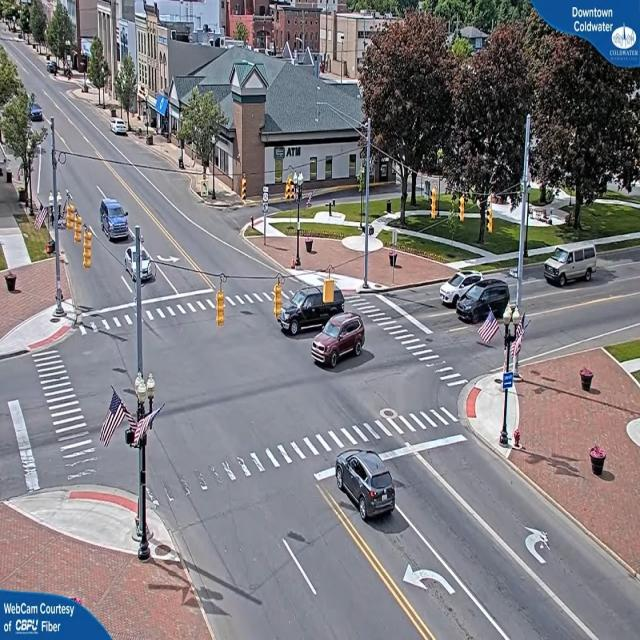car: (272, 270, 340, 336), (334, 452, 398, 522), (310, 313, 367, 371), (544, 243, 599, 287), (456, 280, 509, 322), (440, 270, 482, 303), (101, 201, 131, 242), (126, 244, 154, 283), (112, 121, 130, 138)
